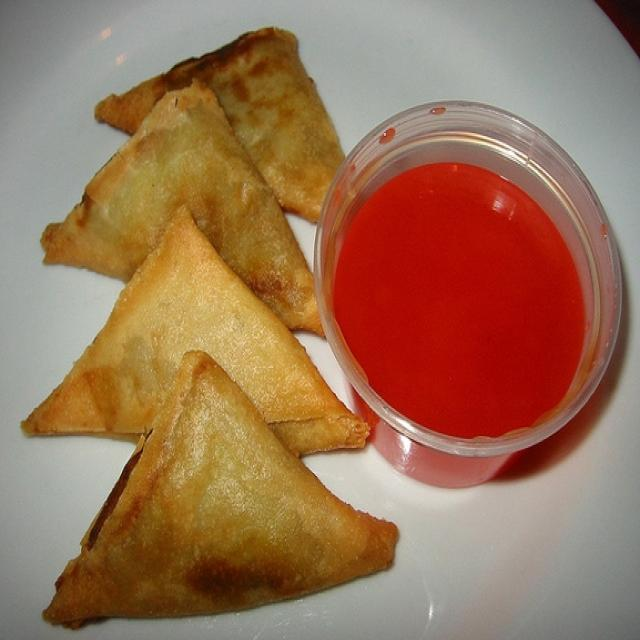炸货点心: (16, 4, 614, 626)
